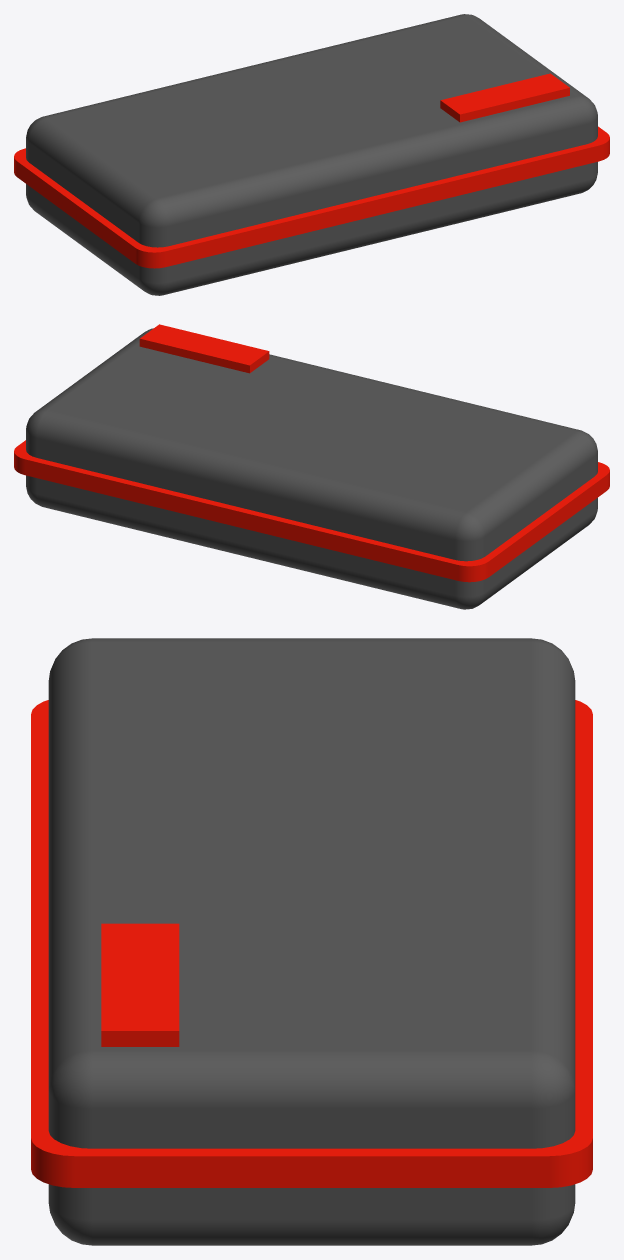
The model's file is Case.glb.
3 renders of one model, top to bottom at view 1: azimuth 30°, elevation 25°; view 2: azimuth 150°, elevation 25°; view 3: azimuth 270°, elevation 25°, orthographic. The views are drawn at different scales.
Visible parts, largest first — view 1: CaseBlack, CaseRed; view 2: CaseBlack, CaseRed; view 3: CaseBlack, CaseRed.
Boxes of the visible parts, box(x1,y1,x2,y2) form: CaseBlack: box(26, 14, 597, 295); CaseRed: box(14, 73, 609, 268); CaseBlack: box(26, 328, 597, 609); CaseRed: box(14, 324, 609, 582); CaseBlack: box(48, 638, 575, 1245); CaseRed: box(31, 700, 592, 1187).
Bounding box in the file's own units: 6.2 × 1.3 × 3.2.
